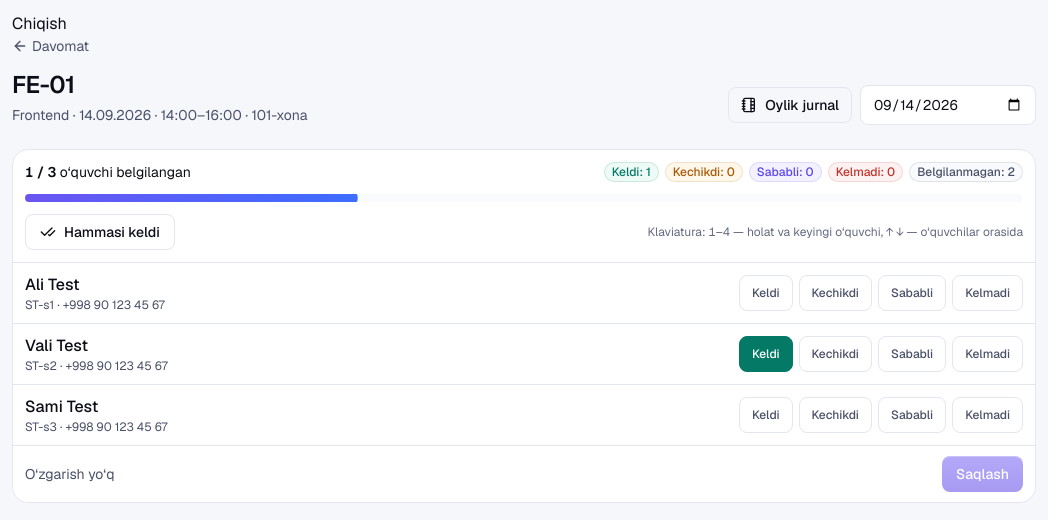
Test: GroupAttendancePage › o‘zgarish bo‘lmasa chiqish erkin; "Hammasi keldi" barchani belgilaydi
The image size is (1048, 520).
Check: the heading "FE-01" is shown, box 12,69 -> 75,100
Click the button "Hammasi keldi" at point(100, 232), box 25,214 -> 175,250
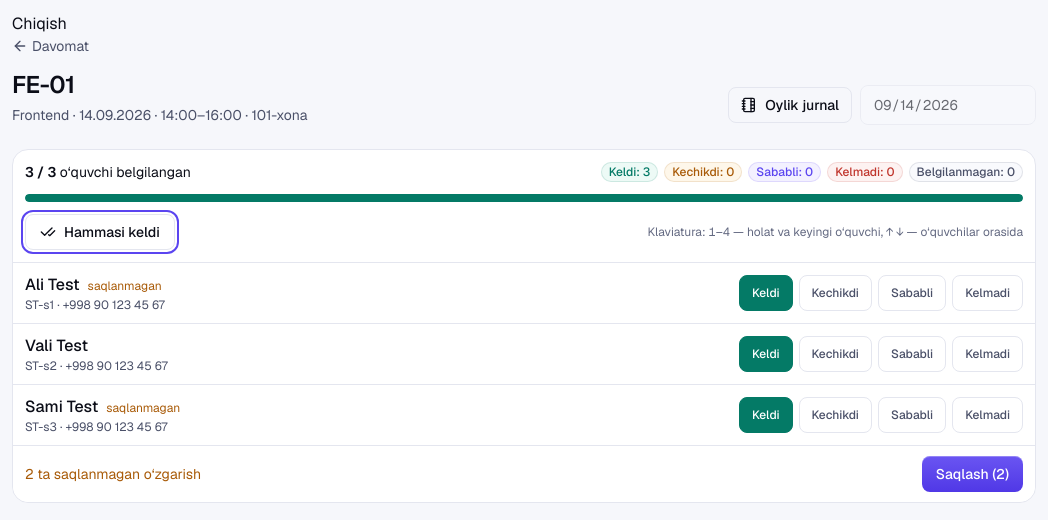
Check: the text "3 / 3" is shown, box 25,163 -> 56,181
Check: the button "Saqlash (2)" is enabled, box 922,456 -> 1023,492
